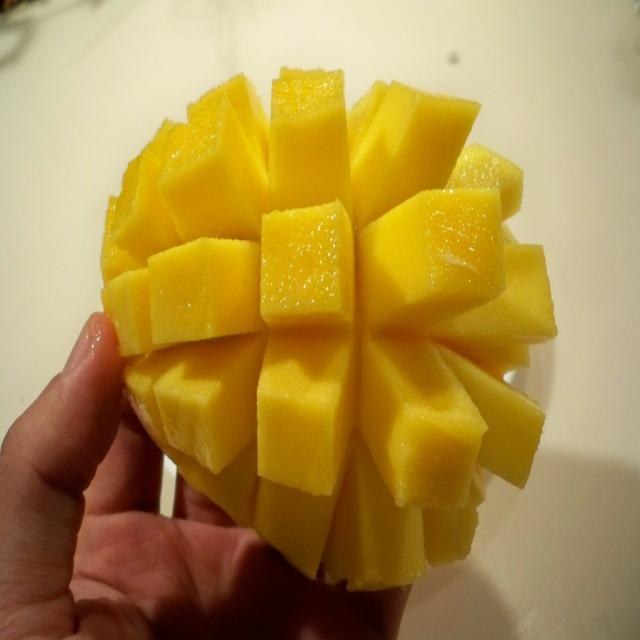Mango: (100, 68, 558, 590), (366, 175, 520, 320)
